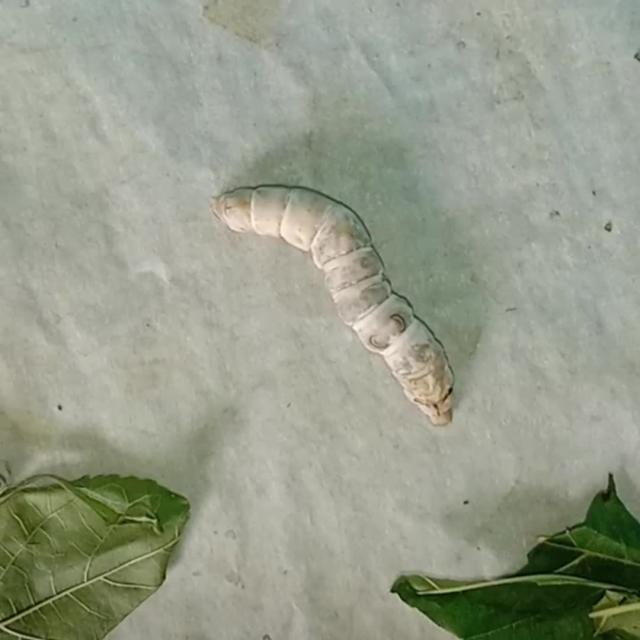Grasserie: (208, 167, 464, 429)
